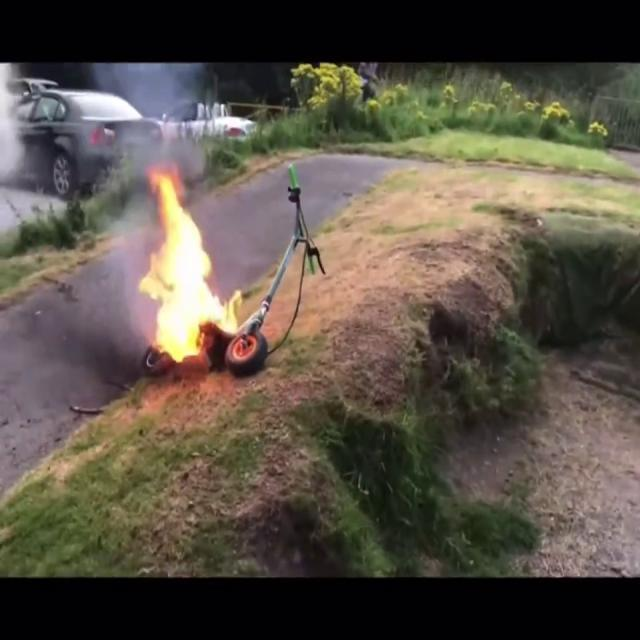Fire: (135, 162, 246, 370)
Smoke: (61, 216, 156, 374), (98, 64, 218, 171)
